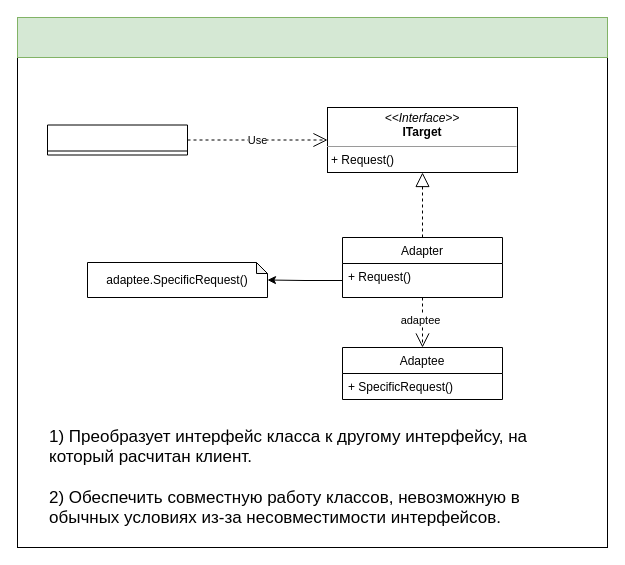
This 625x565 diagram has some shape labels left out. The shapes that lost their labels are listed below. From the top down, each one's box as (x1, y1, x2, y2) in pixels, then its label:
(16, 16, 608, 58): Паттерн "Адаптер"
(46, 124, 188, 155): Client
